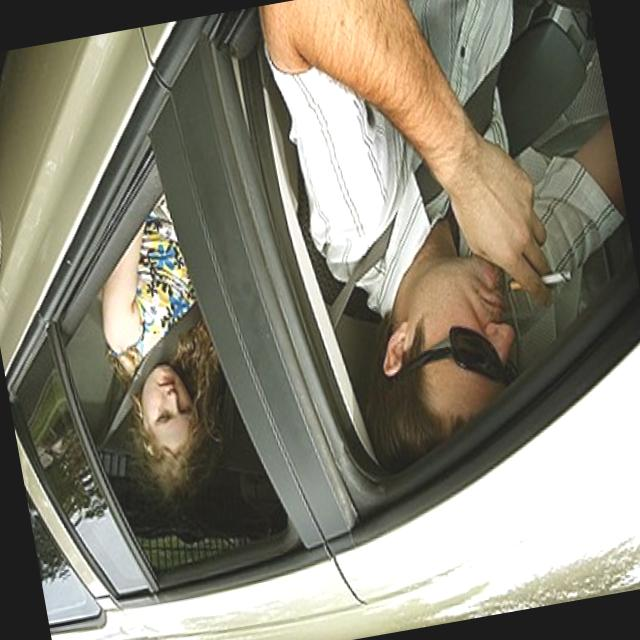cigarette: (544, 264, 574, 286)
